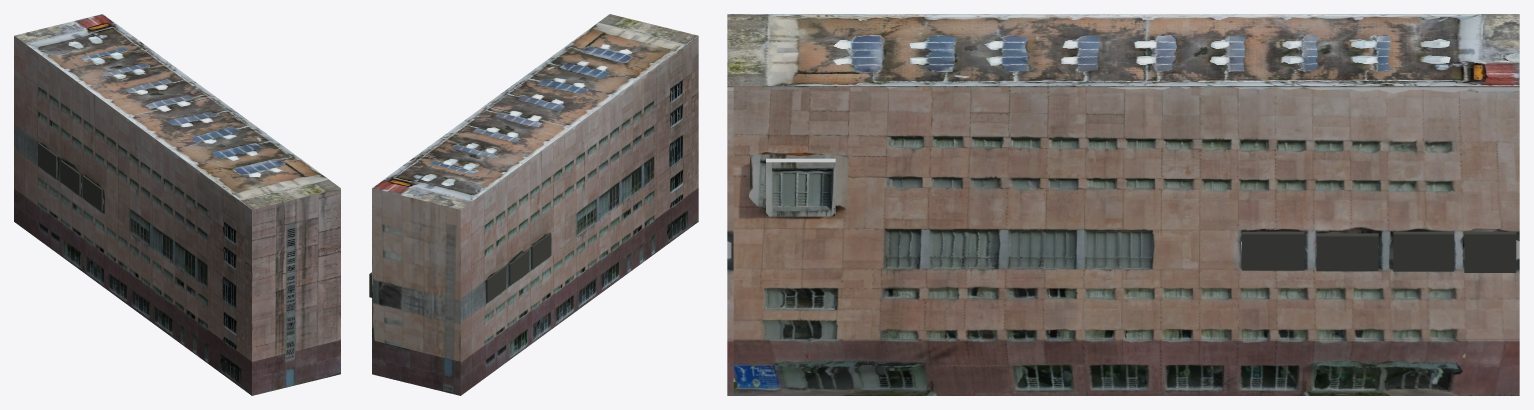
Rendered from residencia.glb.
3 views of the same model, side by side, from view 1: azimuth 30°, elevation 25°; view 2: azimuth 150°, elevation 25°; view 3: azimuth 270°, elevation 25° (orthographic). The views are drawn at different scales.
Bounding box in the file's own units: 14.44 × 26.98 × 62.49.
11 materials, 9 textured.
